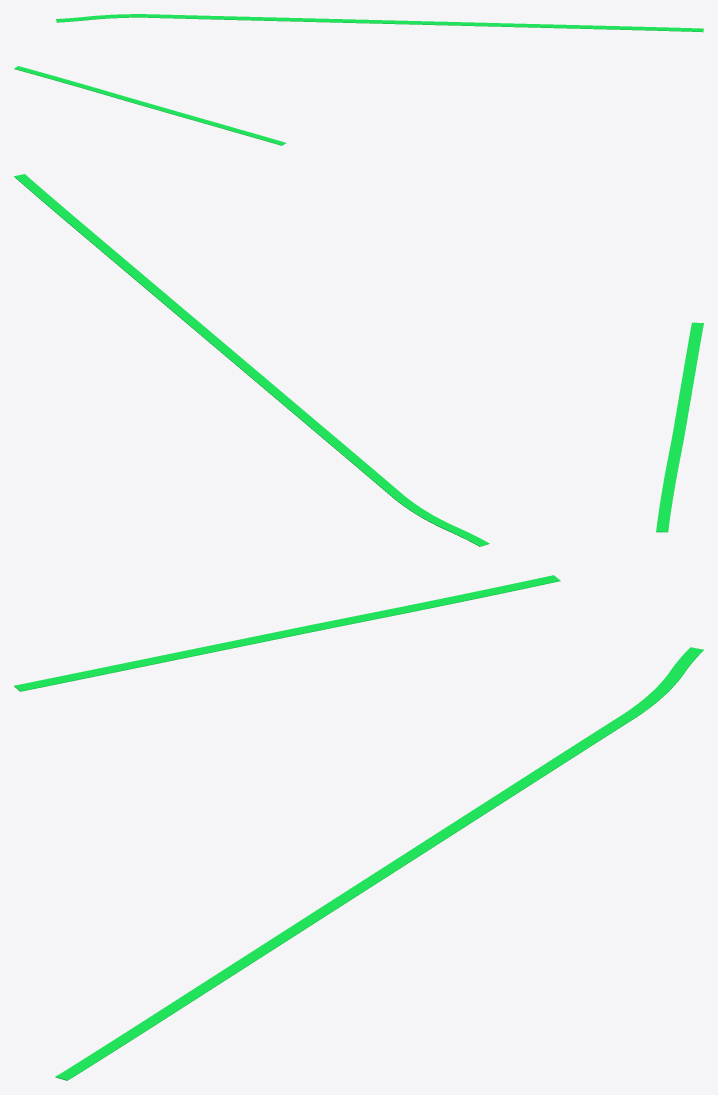
File: BarcelonaDrs.glb
3 renders of one model, top to bottom at view 1: azimuth 30°, elevation 25°; view 2: azimuth 150°, elevation 25°; view 3: azimuth 270°, elevation 25°, orthographic. The views are drawn at different scales.
Visible parts, largest first — view 1: DrsStrip_2, DrsStrip_1; view 2: DrsStrip_2, DrsStrip_1; view 3: DrsStrip_2, DrsStrip_1.
Part boxes in pixels (x1=…): DrsStrip_2: x1=56, y1=14, x2=703, y2=32; DrsStrip_1: x1=14, y1=66, x2=285, y2=145; DrsStrip_2: x1=14, y1=174, x2=489, y2=546; DrsStrip_1: x1=656, y1=322, x2=703, y2=532; DrsStrip_2: x1=55, y1=647, x2=703, y2=1080; DrsStrip_1: x1=14, y1=575, x2=560, y2=691.
Size of the model in its own units: 11.43 by 0.006 by 6.6.
